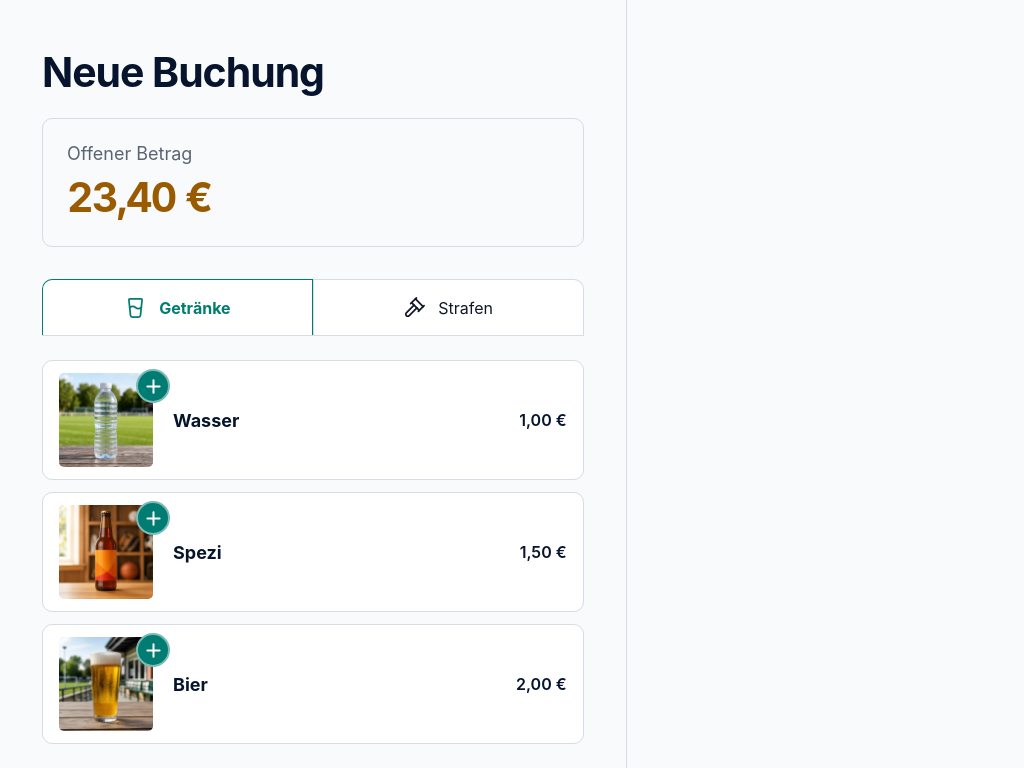
Test: BookingPage multi-product workspace › shows an optional reason in the full compact cart opened by the first product
This screenshot has width=1024, height=768.
Click the button "W Wasser 1,00 €" at (106, 420), box [43, 361, 583, 479]
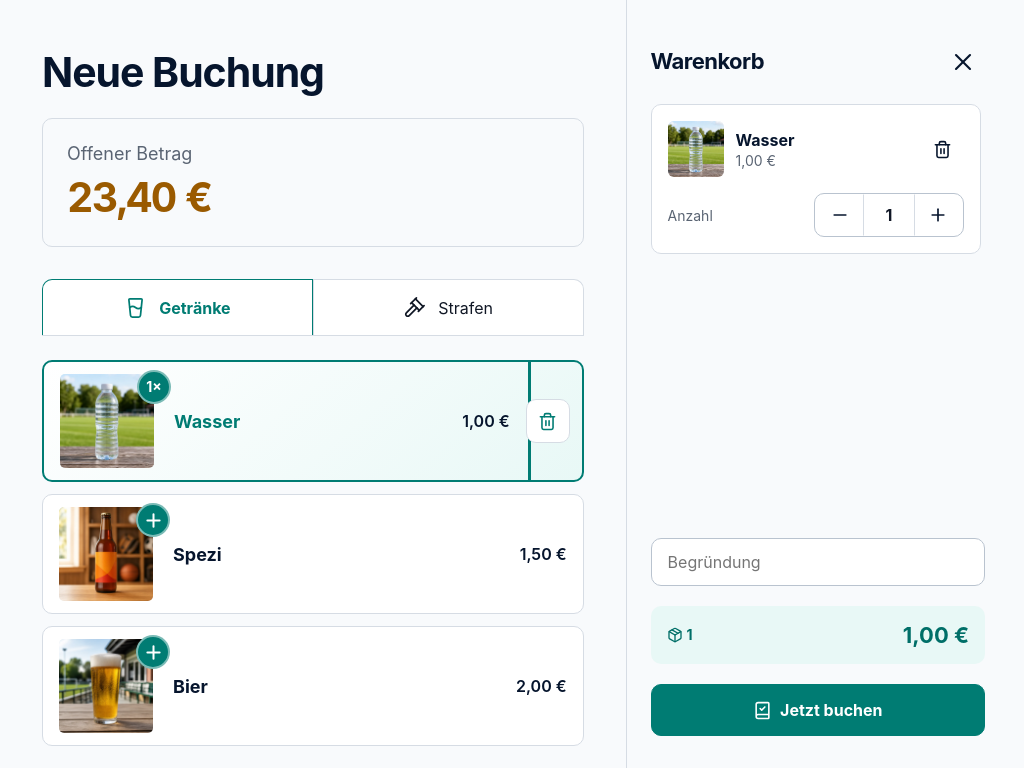
Expected: the dropdown labelled "Begründung" is shown, [651, 538, 985, 586]
